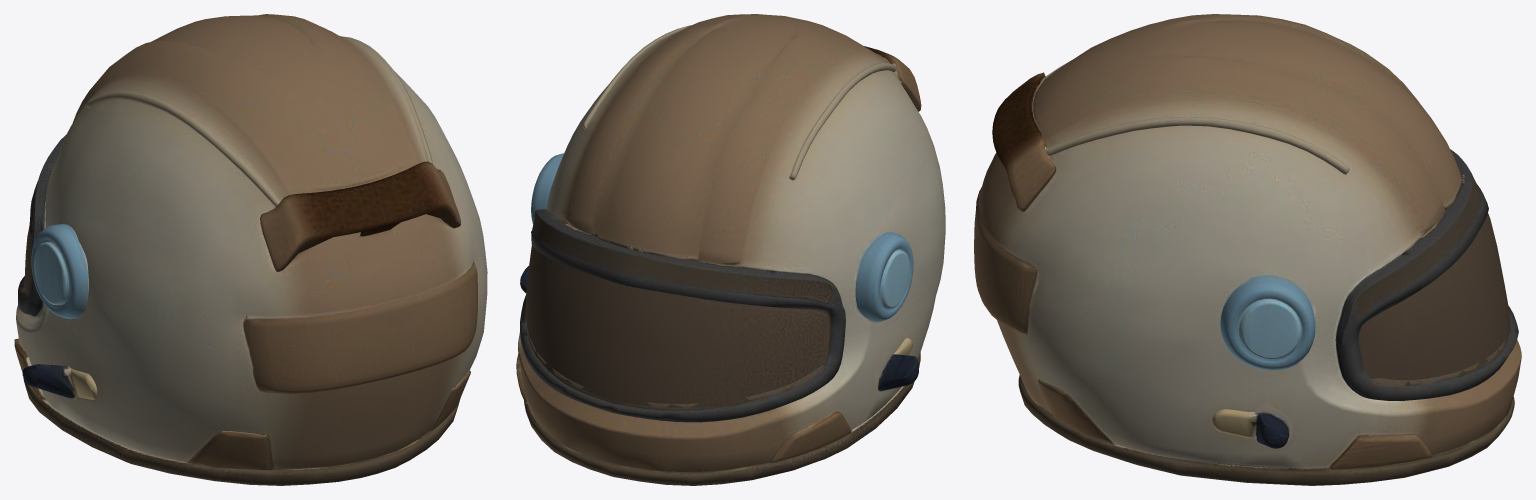
Rendered from acc_hat_race_helmet_01.glb.
3 views of the same model, side by side, from view 1: azimuth 30°, elevation 25°; view 2: azimuth 150°, elevation 25°; view 3: azimuth 270°, elevation 25° (orthographic). The views are drawn at different scales.
Visible parts, largest first — view 1: acc_hat_race_helmet_01; view 2: acc_hat_race_helmet_01; view 3: acc_hat_race_helmet_01.
Boxes of the visible parts, left/top/right/bottom form: acc_hat_race_helmet_01: left=14, top=14, right=487, bottom=485; acc_hat_race_helmet_01: left=516, top=14, right=945, bottom=485; acc_hat_race_helmet_01: left=974, top=14, right=1521, bottom=485.
Size of the model in its own units: 0.3077 by 0.26 by 0.3392.
Materials: 1 (1 with a texture image).
